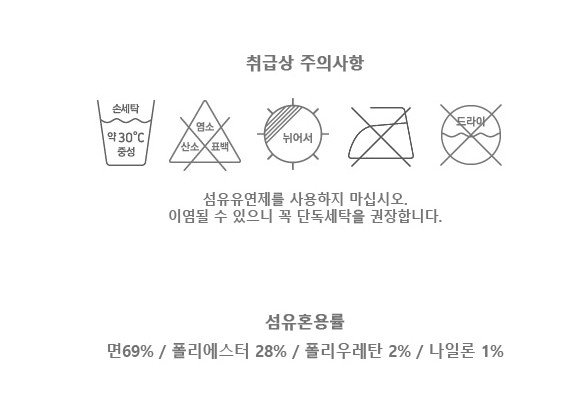KR_flat_dry_in_shade: (257, 92, 329, 168)
KR_hand_wash_30_neutral: (92, 93, 158, 171)
KR_no_bleach: (166, 96, 244, 176)
KR_no_dry_clean: (431, 96, 506, 171)
KR_no_iron: (345, 96, 421, 170)
